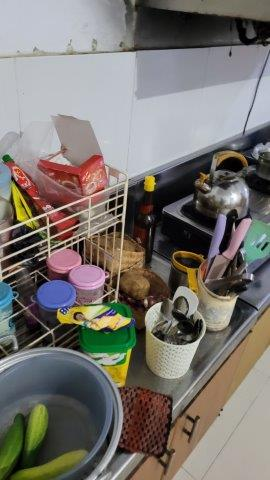botolkaca: (133, 175, 160, 267)
